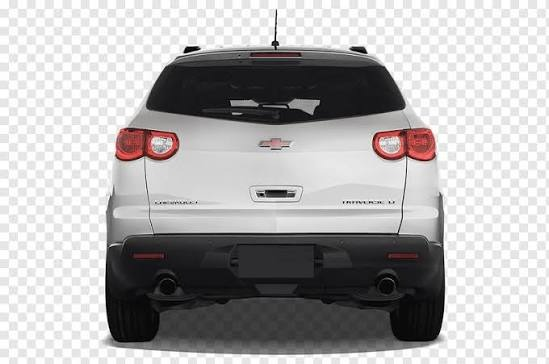car: (78, 26, 447, 357), (78, 24, 444, 357)
